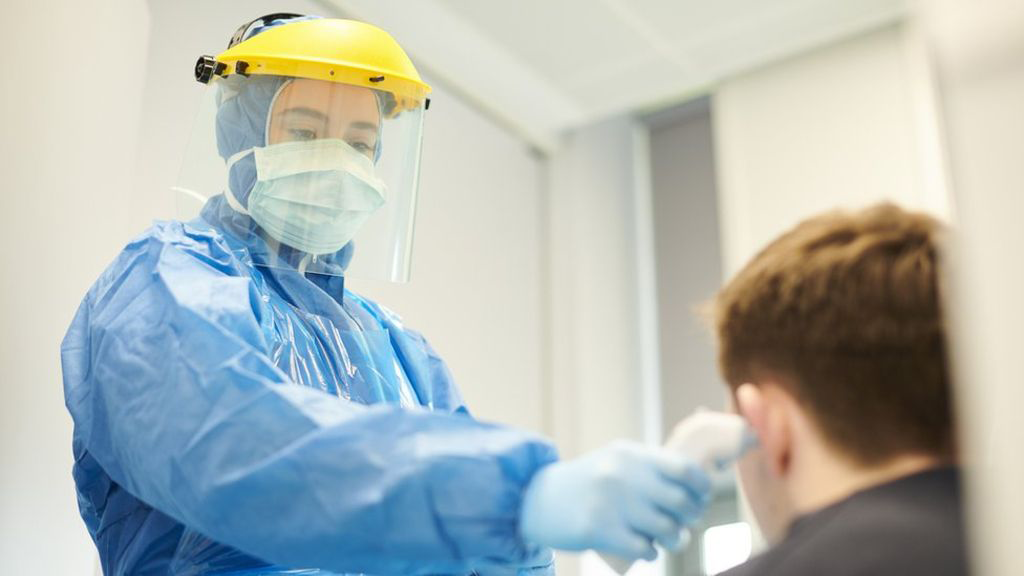Coverall: (57, 11, 519, 576)
Face_Shield: (196, 13, 431, 283)
Gloves: (474, 447, 702, 561)
Mask: (241, 110, 389, 257)
